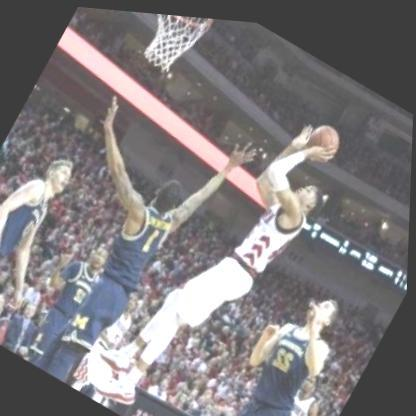basketball: (297, 107, 353, 167)
